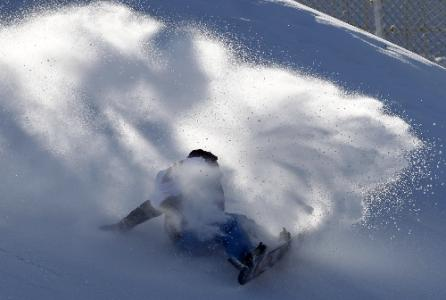fall: (96, 137, 293, 282)
